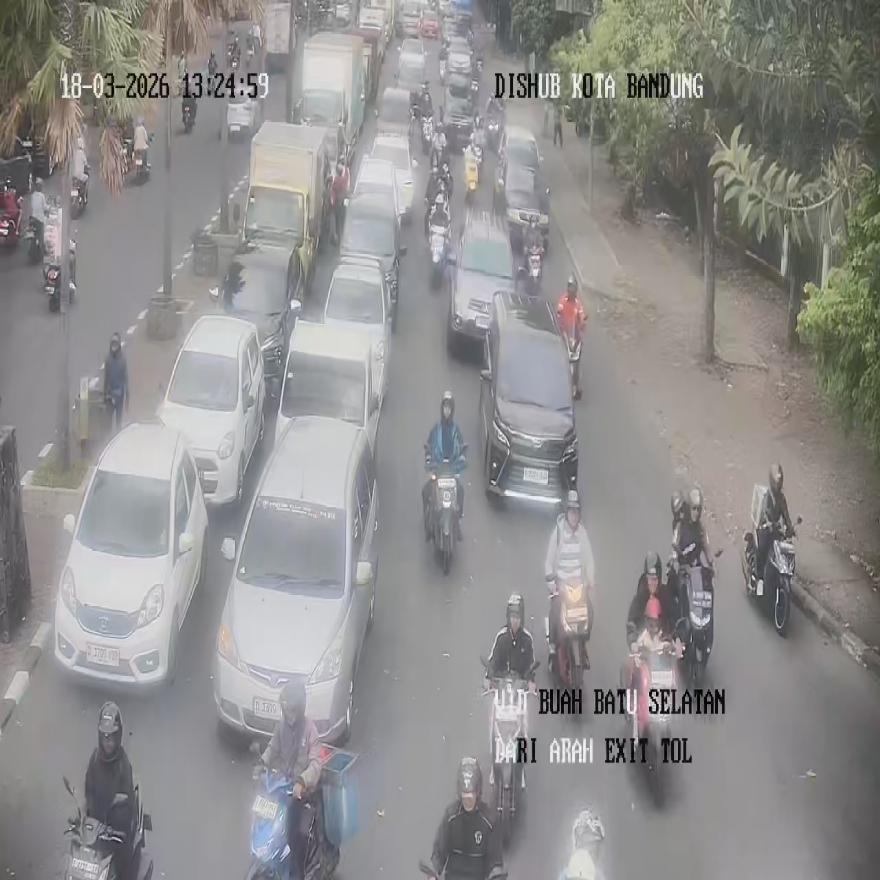Mobil: (211, 416, 379, 743), (54, 419, 208, 688), (478, 288, 579, 505), (156, 314, 265, 507), (274, 318, 381, 464), (209, 241, 302, 398), (322, 254, 390, 407), (448, 209, 515, 348)
Motor: (246, 739, 340, 879), (481, 660, 538, 847), (62, 775, 154, 880), (430, 755, 506, 880), (626, 640, 679, 806), (743, 515, 799, 636), (546, 576, 590, 710), (424, 445, 466, 574), (676, 561, 713, 687), (559, 808, 606, 880), (557, 294, 586, 399), (104, 332, 128, 434), (44, 239, 77, 310), (418, 857, 507, 880), (428, 202, 449, 284), (523, 215, 543, 290), (0, 179, 21, 243), (27, 205, 49, 264), (131, 122, 150, 185), (464, 141, 481, 204), (71, 162, 90, 217), (182, 73, 198, 132), (567, 337, 581, 398), (420, 111, 434, 154)
Truk ringan: (235, 118, 327, 294)
